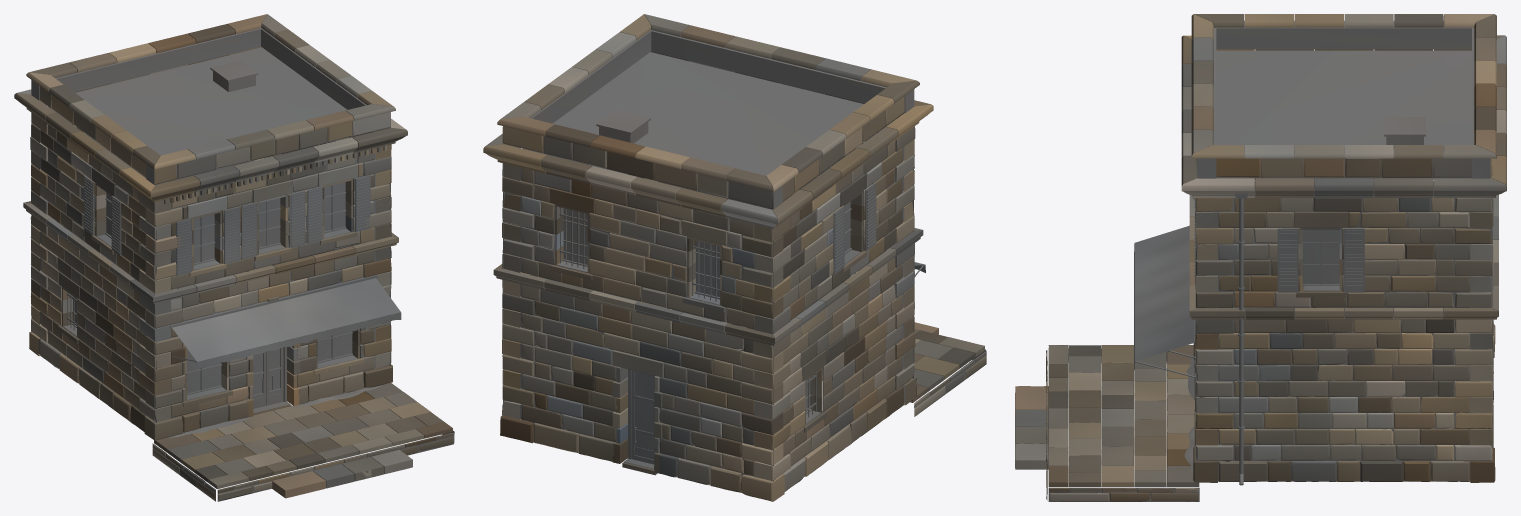
Rendered from Finery_LOD0.glb.
3 views of the same model, side by side, from view 1: azimuth 30°, elevation 25°; view 2: azimuth 150°, elevation 25°; view 3: azimuth 270°, elevation 25° (orthographic). The views are drawn at different scales.
Parts seen in each view (by area): view 1: Finery_Masonry_LOD0, Finery_Trim_LOD0, Finery_Porch_LOD0, Finery_Roof_LOD0, Finery_Metal_LOD0, Finery_Canvas_LOD0, Finery_Glass_LOD0, Finery_Sand_LOD0; view 2: Finery_Masonry_LOD0, Finery_Trim_LOD0, Finery_Roof_LOD0, Finery_Metal_LOD0, Finery_Porch_LOD0, Finery_Glass_LOD0, Finery_Sand_LOD0; view 3: Finery_Masonry_LOD0, Finery_Trim_LOD0, Finery_Porch_LOD0, Finery_Roof_LOD0, Finery_Canvas_LOD0, Finery_Metal_LOD0, Finery_Glass_LOD0, Finery_Sand_LOD0.
Boxes of the visible parts, bbox=[...] form: Finery_Masonry_LOD0: bbox=[29, 28, 392, 440]; Finery_Trim_LOD0: bbox=[14, 14, 407, 417]; Finery_Porch_LOD0: bbox=[152, 382, 454, 501]; Finery_Roof_LOD0: bbox=[75, 47, 346, 155]; Finery_Metal_LOD0: bbox=[67, 131, 399, 413]; Finery_Canvas_LOD0: bbox=[172, 278, 401, 369]; Finery_Glass_LOD0: bbox=[73, 133, 352, 394]; Finery_Sand_LOD0: bbox=[63, 228, 382, 438]; Finery_Masonry_LOD0: bbox=[500, 29, 916, 501]; Finery_Trim_LOD0: bbox=[483, 14, 933, 473]; Finery_Roof_LOD0: bbox=[553, 52, 863, 175]; Finery_Metal_LOD0: bbox=[559, 147, 925, 469]; Finery_Porch_LOD0: bbox=[622, 322, 986, 475]; Finery_Glass_LOD0: bbox=[563, 149, 854, 408]; Finery_Sand_LOD0: bbox=[557, 250, 860, 423]; Finery_Masonry_LOD0: bbox=[1193, 20, 1495, 482]; Finery_Trim_LOD0: bbox=[1181, 14, 1506, 433]; Finery_Porch_LOD0: bbox=[1015, 345, 1199, 501]; Finery_Roof_LOD0: bbox=[1216, 50, 1471, 178]; Finery_Canvas_LOD0: bbox=[1134, 225, 1194, 369]; Finery_Metal_LOD0: bbox=[1134, 193, 1364, 485]; Finery_Glass_LOD0: bbox=[1302, 230, 1339, 283]; Finery_Sand_LOD0: bbox=[1184, 285, 1339, 474].
Size of the model in its own units: 8.46 by 9.19 by 11.73.
